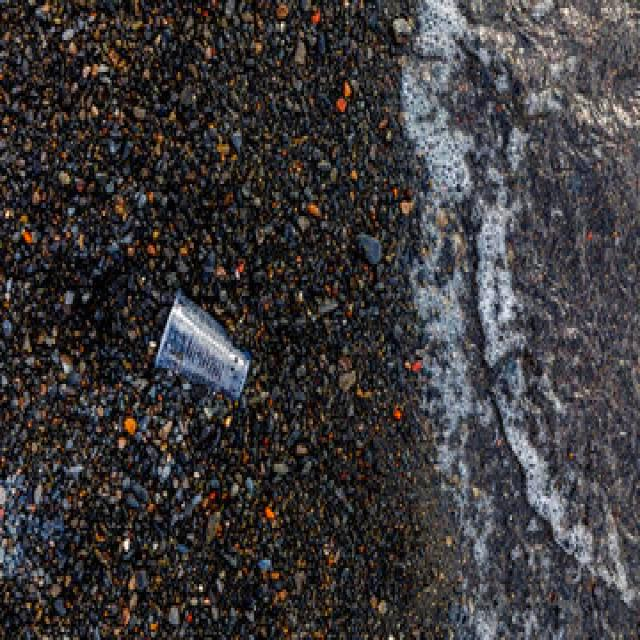Plastic: (151, 288, 254, 399)
